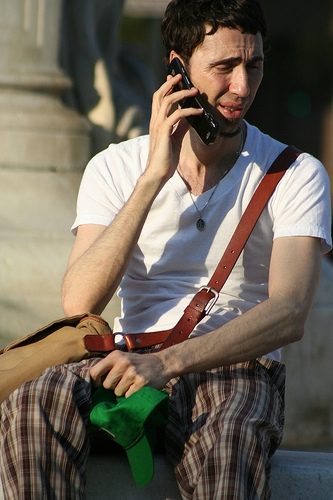phone: (163, 61, 218, 139)
talk: (149, 49, 265, 167)
